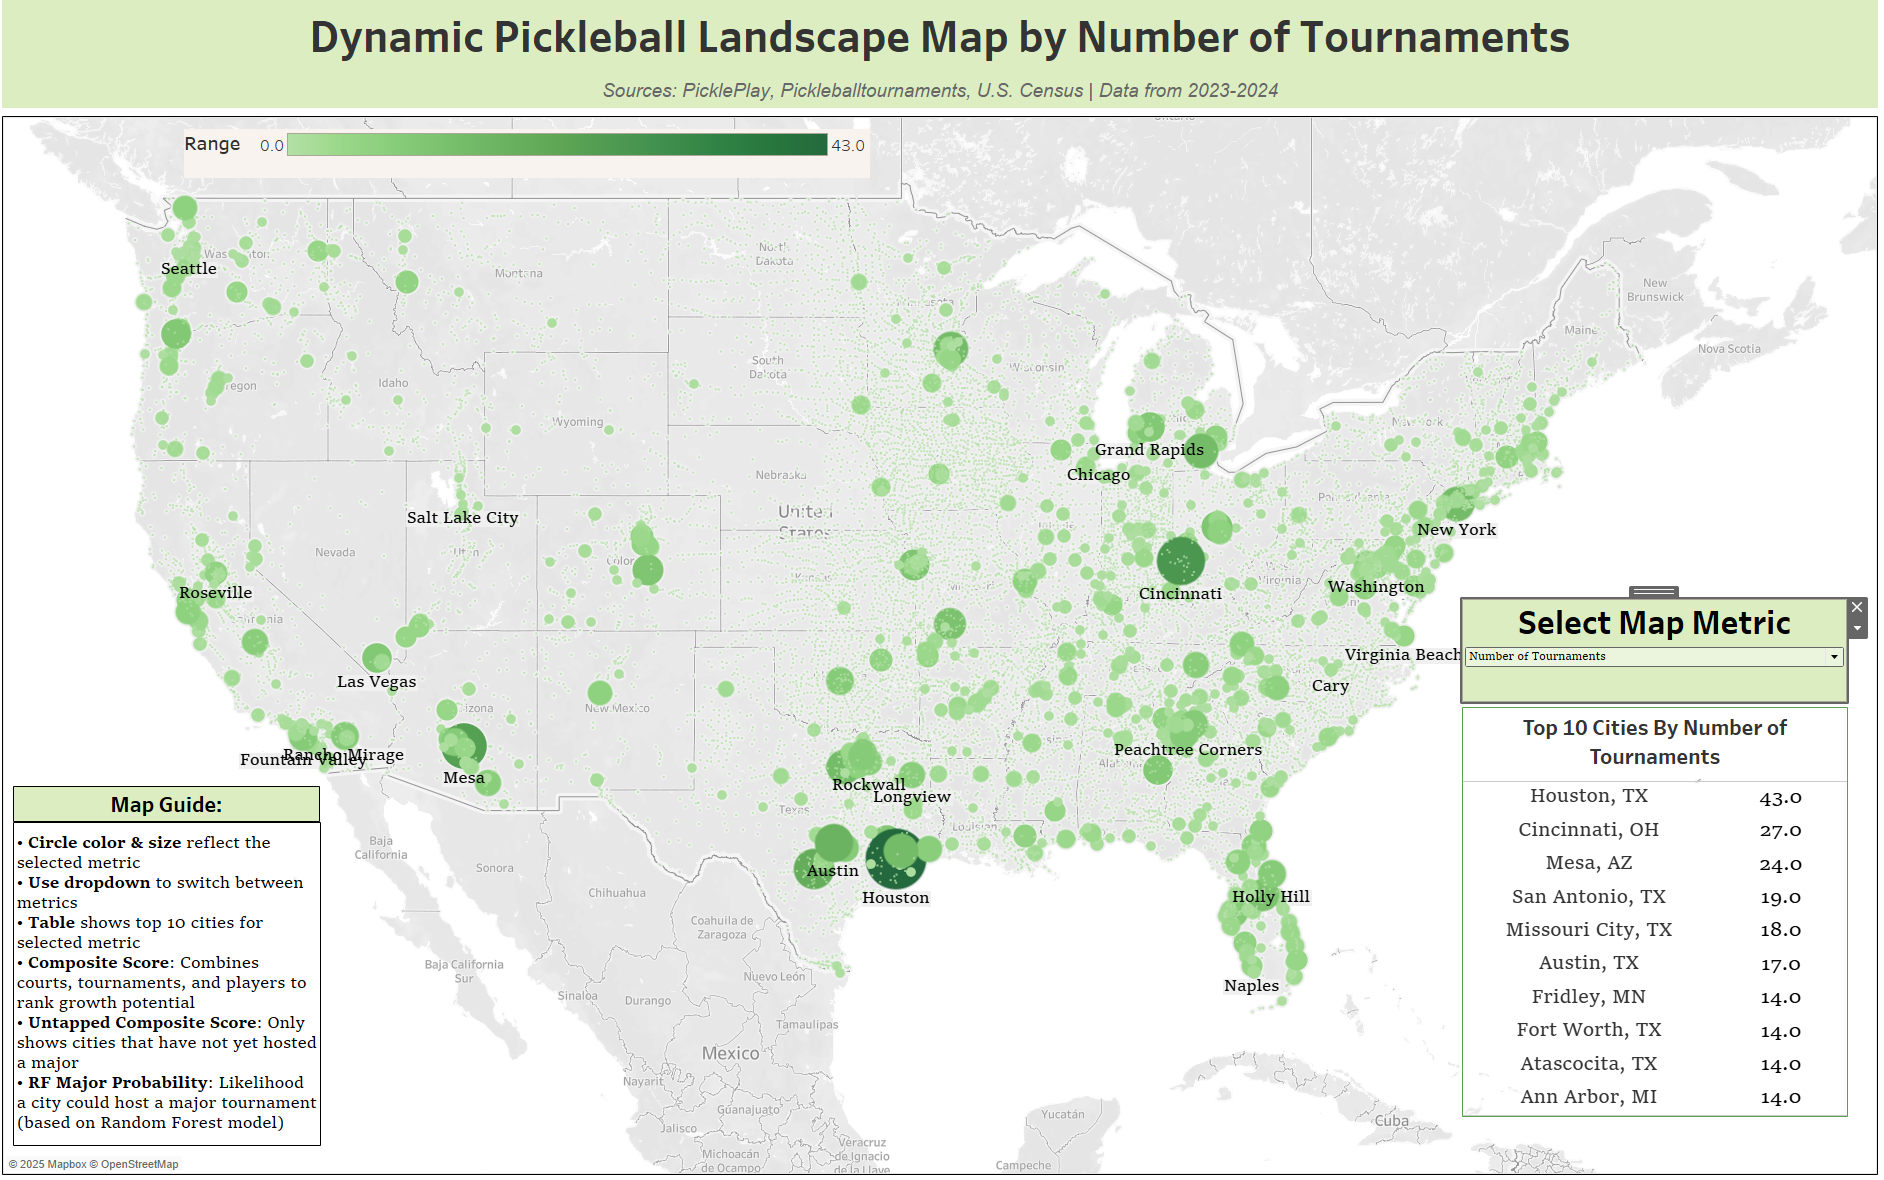

This screenshot's page, from the dashboard's own definition file:
{"tool":"tableau","page":{"name":"Pickleball Dynamic Overview Map","canvas":[1900,1200],"ordinal":0},"visuals":[{"type":"text","box":[8,8,1884,116.9]},{"type":"worksheet","title":"Dynamic Pickleball Landscape Map","mark":"Automatic","box":[8,124.9,1884,1067.1]},{"type":"legend","title":"Dynamic Pickleball Landscape Map","param":"[federated.1uroyys0okk61s14kenbh1t98qae].[avg:Calculation_2274880825338425361:qk","box":[194,141.8,686,49.1]},{"type":"parameter","param":"[Parameters].[Parameter 2]","box":[1472,612,385,103]},{"type":"worksheet","title":"Top 10","mark":"Automatic","rows":["city_state"],"box":[1472,720,386,410]},{"type":"text","box":[23,799,307,36]},{"type":"text","box":[23,835,308,324]}]}

Visuals, with their boxes in screenshot pixels (x1, y1, x2, y2), scaled from the page's 1900x1200 canvas onto the 1884x1180 screenshot:
text: bbox=(8, 8, 1876, 123)
"Dynamic Pickleball Landscape Map" worksheet: bbox=(8, 123, 1876, 1172)
"Dynamic Pickleball Landscape Map" legend: bbox=(192, 139, 873, 188)
parameter: bbox=(1460, 602, 1841, 703)
"Top 10" worksheet: bbox=(1460, 708, 1842, 1111)
text: bbox=(23, 786, 327, 821)
text: bbox=(23, 821, 328, 1140)
